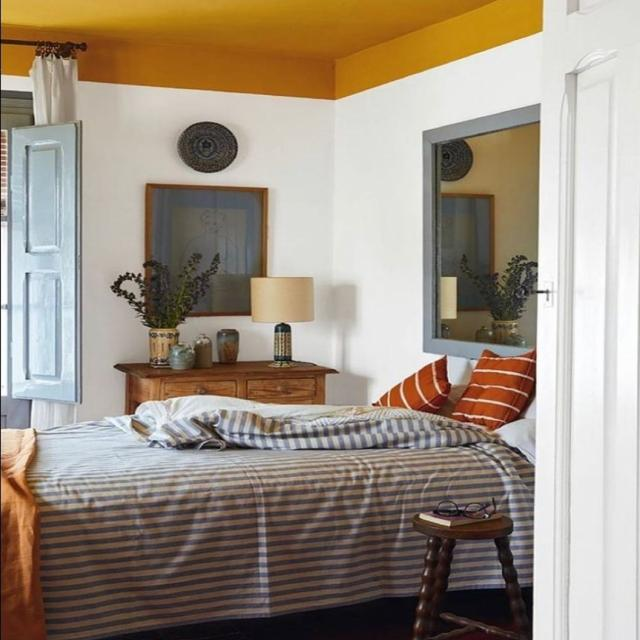bed: (0, 357, 521, 591)
